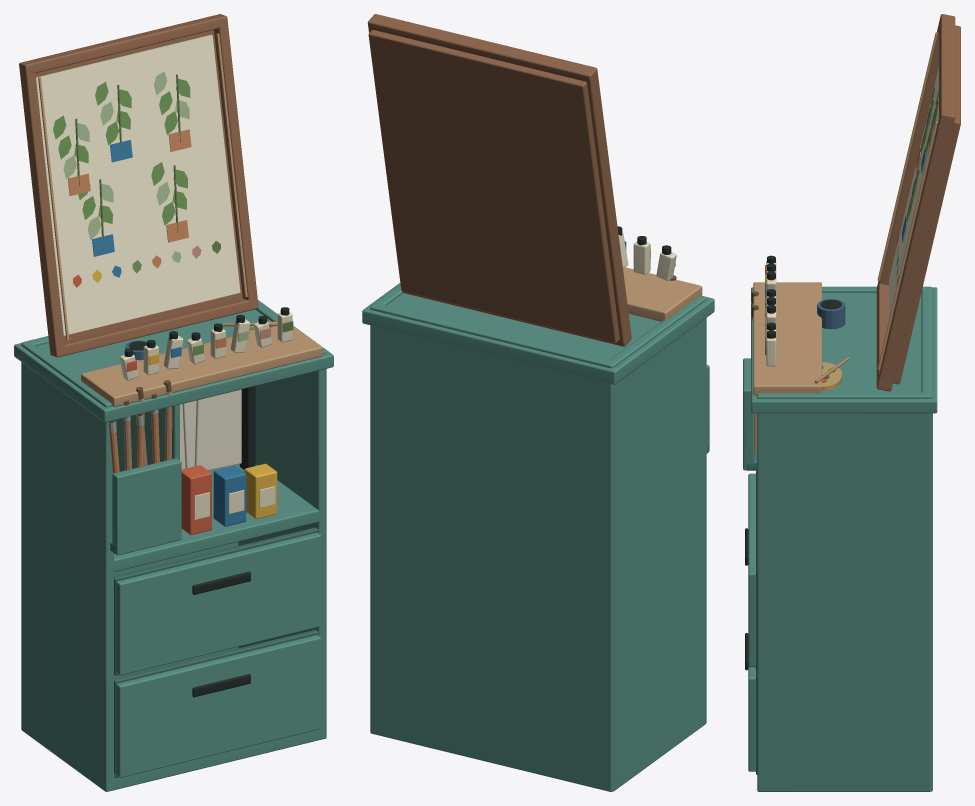
File: PROP_ART_STATION_001.glb
3 views of the same model, side by side, from view 1: azimuth 30°, elevation 25°; view 2: azimuth 150°, elevation 25°; view 3: azimuth 270°, elevation 25° (orthographic). The views are drawn at different scales.
Parts seen in each view (by area): view 1: Art_station_painting_paper, Art_station_cabinet_left, Art_station_drawer_front_1, Art_station_drawer_front_0, Art_station_cabinet_right, Art_station_cabinet_top, Art_station_frame_painting_ledge, Art_station_left_brush_pocket_front, Art_station_cubby_floor, Art_station_frame_vertical, Art_station_frame_vertical.001, Art_station_upright_drawing_sheet_2 (+17 smaller); view 2: Art_station_cabinet_back, Art_station_picture_backboard, Art_station_cabinet_left, Art_station_cabinet_top, Art_station_frame_horizontal.001, Art_station_frame_vertical, Art_station_frame_painting_ledge; view 3: Art_station_cabinet_right, Art_station_cabinet_top, Art_station_frame_painting_ledge, Art_station_frame_vertical.001, Art_station_picture_backboard, Art_station_frame_vertical, Art_station_cabinet_back, Art_station_frame_horizontal.001, Art_station_painting_paper, Art_station_drawer_front_1, Art_station_left_brush_pocket_front, Art_station_frame_horizontal (+7 smaller).
Part boxes in pixels (bbox=[...]): Art_station_painting_paper: bbox=[36, 35, 240, 335]; Art_station_cabinet_left: bbox=[21, 342, 113, 791]; Art_station_drawer_front_1: bbox=[116, 532, 321, 675]; Art_station_drawer_front_0: bbox=[116, 635, 321, 777]; Art_station_cabinet_right: bbox=[238, 301, 326, 739]; Art_station_cabinet_top: bbox=[14, 300, 333, 422]; Art_station_frame_painting_ledge: bbox=[81, 326, 322, 406]; Art_station_left_brush_pocket_front: bbox=[112, 458, 181, 555]; Art_station_cubby_floor: bbox=[108, 464, 324, 571]; Art_station_frame_vertical: bbox=[19, 66, 64, 354]; Art_station_frame_vertical.001: bbox=[214, 19, 258, 307]; Art_station_upright_drawing_sheet_2: bbox=[194, 389, 241, 470]; Art_station_cabinet_back: bbox=[370, 303, 612, 791]; Art_station_picture_backboard: bbox=[368, 30, 619, 343]; Art_station_cabinet_left: bbox=[606, 295, 706, 791]; Art_station_cabinet_top: bbox=[362, 283, 714, 384]; Art_station_frame_horizontal.001: bbox=[367, 14, 597, 84]; Art_station_frame_vertical: bbox=[582, 70, 631, 343]; Art_station_frame_painting_ledge: bbox=[623, 267, 702, 321]; Art_station_cabinet_right: bbox=[757, 392, 930, 791]; Art_station_cabinet_top: bbox=[751, 287, 937, 413]; Art_station_frame_painting_ledge: bbox=[753, 282, 821, 395]; Art_station_frame_vertical.001: bbox=[877, 114, 953, 388]; Art_station_picture_backboard: bbox=[893, 25, 960, 384]; Art_station_frame_vertical: bbox=[877, 18, 940, 289]; Art_station_cabinet_back: bbox=[921, 287, 932, 791]; Art_station_frame_horizontal.001: bbox=[939, 14, 955, 125]; Art_station_painting_paper: bbox=[889, 67, 938, 329]; Art_station_drawer_front_1: bbox=[748, 473, 756, 667]; Art_station_left_brush_pocket_front: bbox=[743, 358, 754, 470]; Art_station_frame_horizontal: bbox=[876, 283, 892, 391].
Size of the model in its own units: 0.67 by 1.84 by 0.5382.
